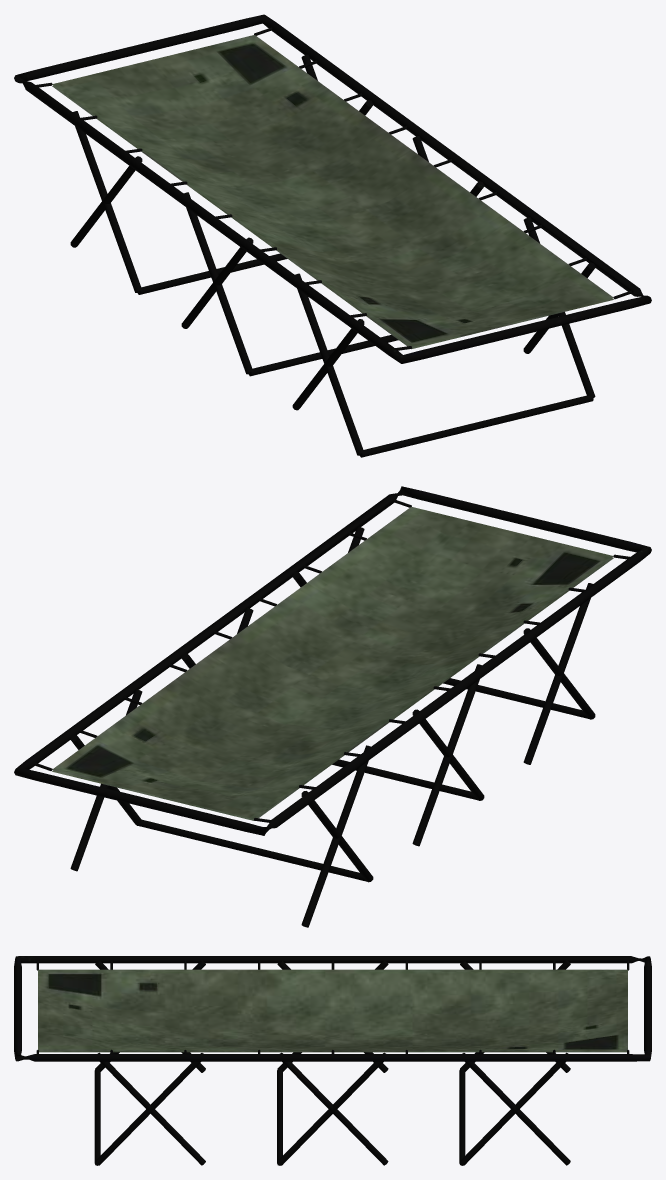
The model's file is folding_cot_lod1_web.glb.
3 renders of one model, top to bottom at view 1: azimuth 30°, elevation 25°; view 2: azimuth 150°, elevation 25°; view 3: azimuth 270°, elevation 25°, orthographic. The views are drawn at different scales.
Visible parts, largest first — view 1: FoldingCot_Mesh; view 2: FoldingCot_Mesh; view 3: FoldingCot_Mesh.
Boxes of the visible parts, x1,y1,x2,y2 form: FoldingCot_Mesh: [14, 14, 651, 457]; FoldingCot_Mesh: [14, 486, 651, 927]; FoldingCot_Mesh: [14, 956, 651, 1165].
Bounding box in the file's own units: 0.724 × 0.381 × 1.92.
Materials: 1 (1 with a texture image).
